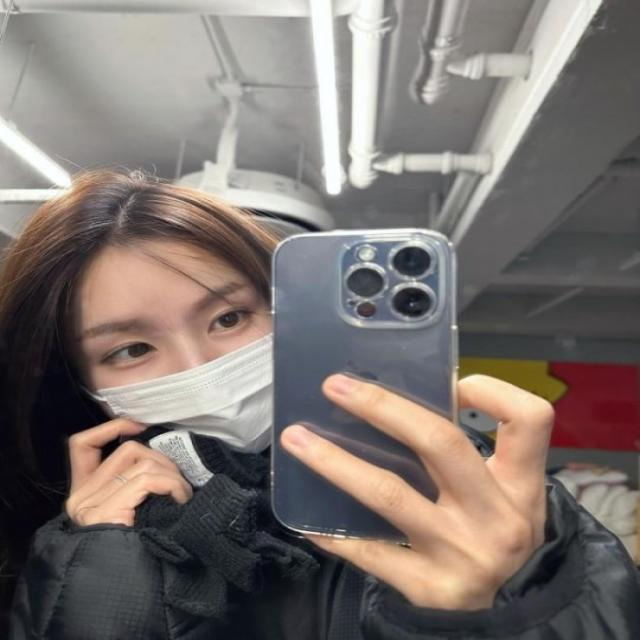phone: (272, 226, 458, 544)
